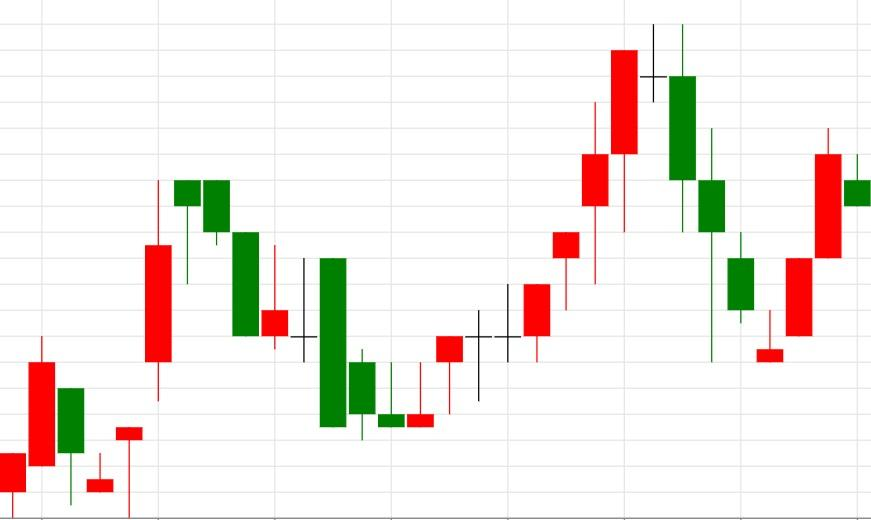evening_star_fall: (378, 24, 696, 427)
hanging_man_fall: (87, 180, 202, 517)
three_white_soldiers_rise: (639, 24, 842, 362)
